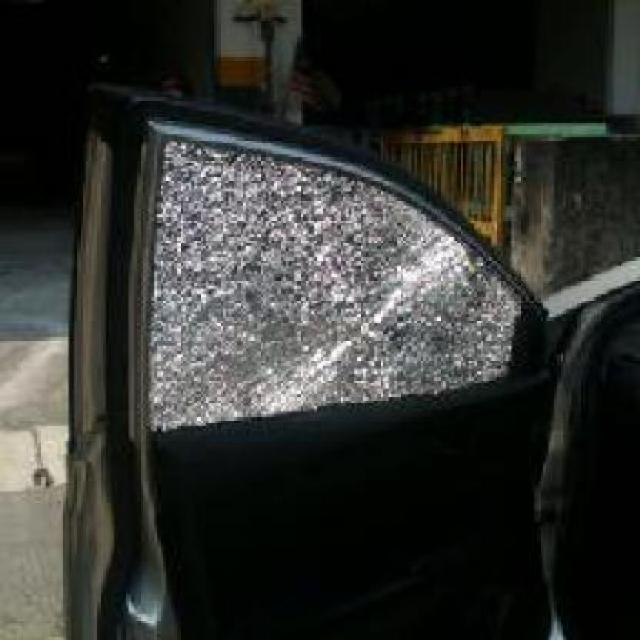damaged-window: (157, 134, 508, 431)
